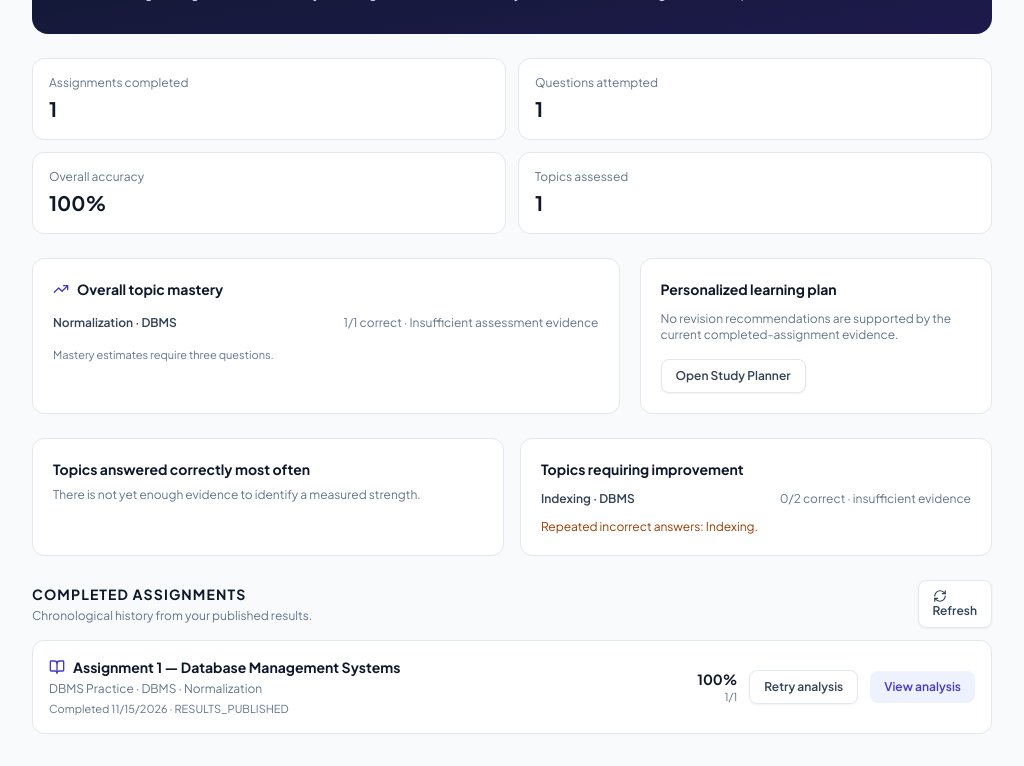
it: Learning Agent workspace › shows real assignment history and opens its isolated detailed analysis
(page scrolled)
Check: the heading "COMPLETED ASSIGNMENTS" is shown, box [32,584,246,602]
Check: the text "Assignments completed" is shown, box [49,74,188,90]
Click the button "Assignment 1 — Database Management Systems" at (225, 687), box [49,656,400,717]
(page scrolled)
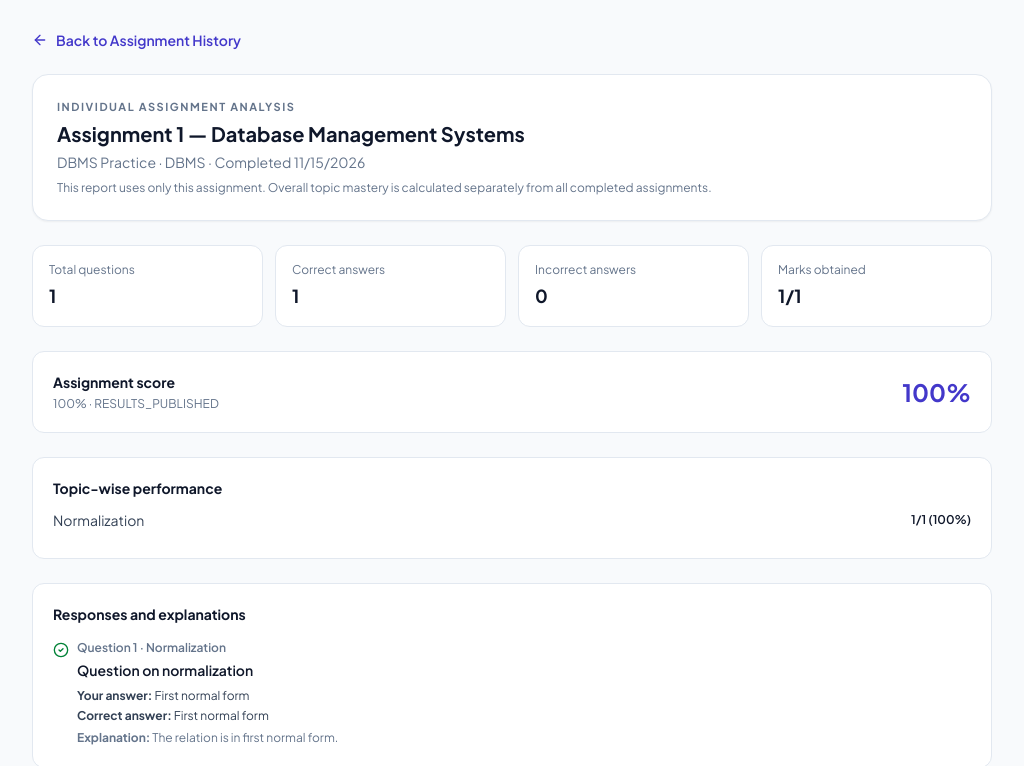
Check: the text "INDIVIDUAL ASSIGNMENT ANALYSIS" is shown, box [57,100,296,113]
Check: the text "First normal form" is shown 2 times, box [77,688,250,702]; [77,708,269,722]
